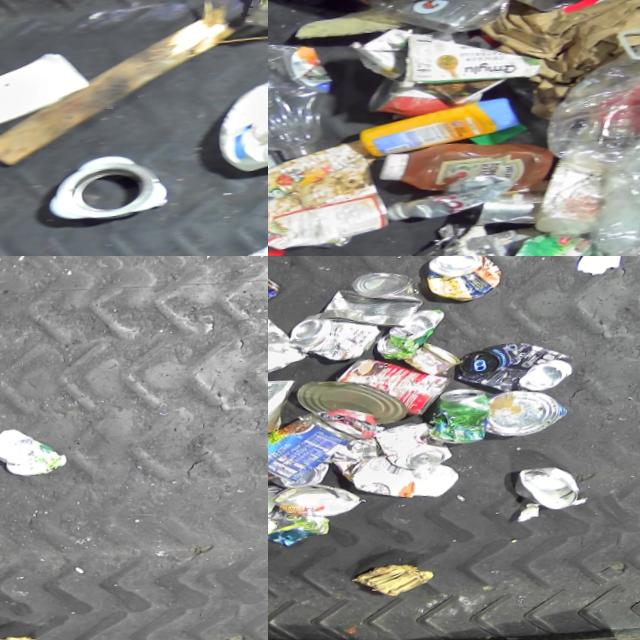can: (337, 353, 463, 428), (268, 406, 368, 489), (463, 341, 586, 406), (322, 268, 434, 339), (300, 375, 421, 435), (371, 80, 495, 131), (293, 309, 391, 369), (379, 420, 468, 477), (493, 392, 581, 448), (427, 256, 512, 310), (279, 480, 377, 524), (435, 388, 503, 450), (523, 468, 599, 522), (382, 309, 452, 365), (480, 0, 601, 29), (477, 201, 554, 239), (409, 342, 471, 384), (268, 375, 305, 440), (278, 461, 341, 492), (268, 267, 290, 326), (268, 482, 295, 526), (268, 428, 283, 500)
milk_jug: (208, 72, 268, 183)
plastic_bottle: (268, 38, 346, 173)
